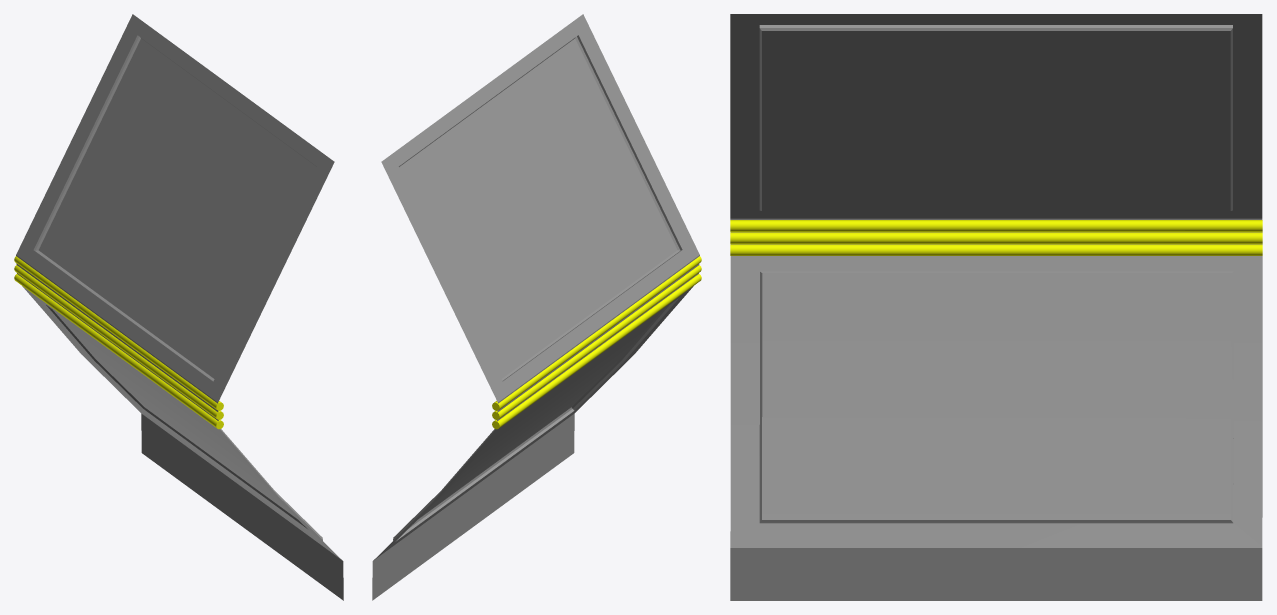
Rendered from Wallsideroom.FBX.
3 views of the same model, side by side, from view 1: azimuth 30°, elevation 25°; view 2: azimuth 150°, elevation 25°; view 3: azimuth 270°, elevation 25° (orthographic). The views are drawn at different scales.
Visible parts, largest first — view 1: Wall 2-1, Wire; view 2: Wall 2-1, Wire; view 3: Wall 2-1, Wire.
Part boxes in pixels (x1=…): Wall 2-1: x1=16, y1=14, x2=343, y2=600; Wire: x1=14, y1=256, x2=223, y2=429; Wall 2-1: x1=372, y1=14, x2=699, y2=600; Wire: x1=492, y1=256, x2=701, y2=429; Wall 2-1: x1=730, y1=14, x2=1262, y2=600; Wire: x1=730, y1=220, x2=1262, y2=255.
Size of the model in its own units: 28.99 by 95.79 by 79.49.
